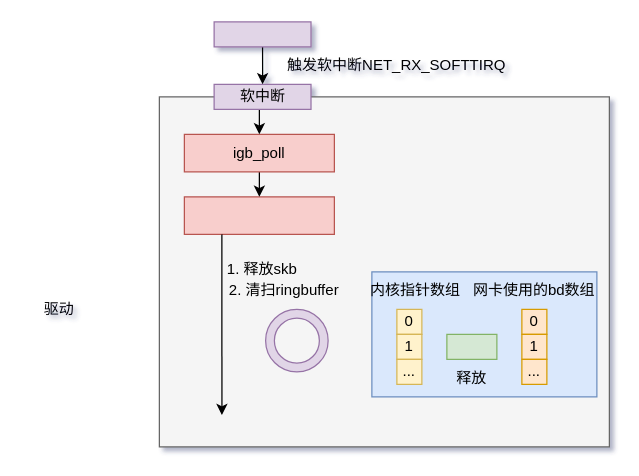
This 639x476 diagram has some shape labels left out. The shapes that lost their labels are listed below. From the top down, each one's centre as x and y in pixels, then its label:
At point (262, 34): "硬中断".
At point (258, 215): "igb_clean_tx_irq".
At point (296, 340): "传输 队列".
At point (471, 346): "skb".
